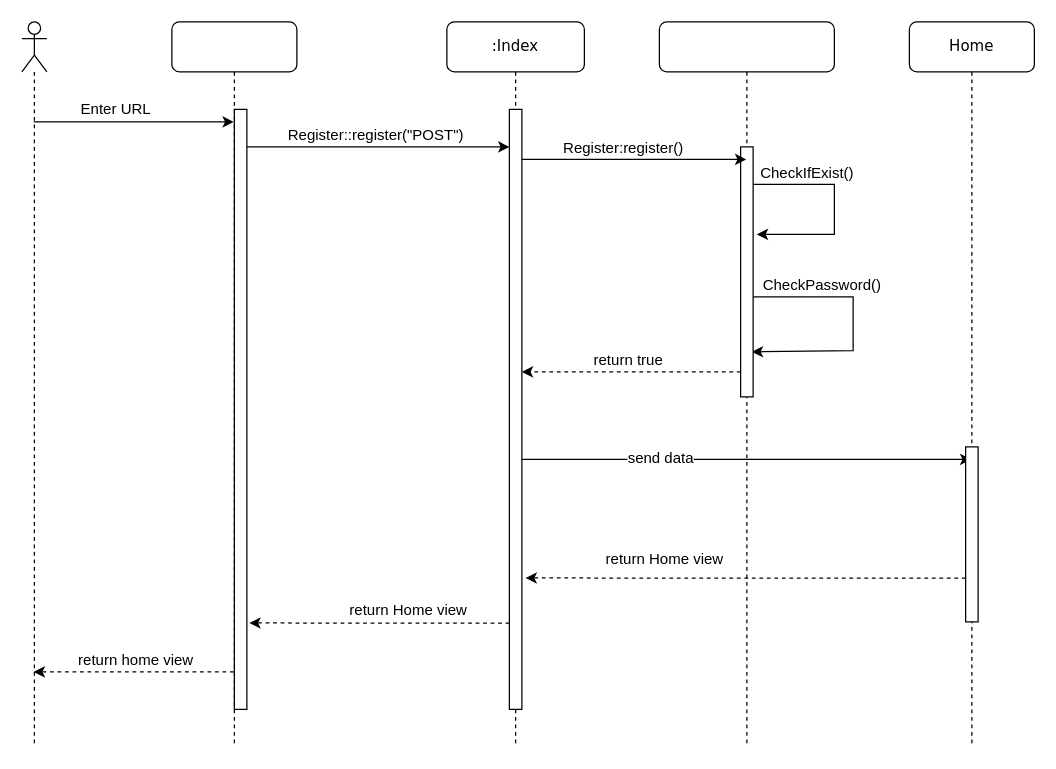
Some shapes in this 1056 by 769 pixel diagram are drawn without their labels. Here are the shapes that lost their labels. From the top down, the centre of each, then its label:
At (234,384): ":Register".
At (746,384): ":RegistrationController".
